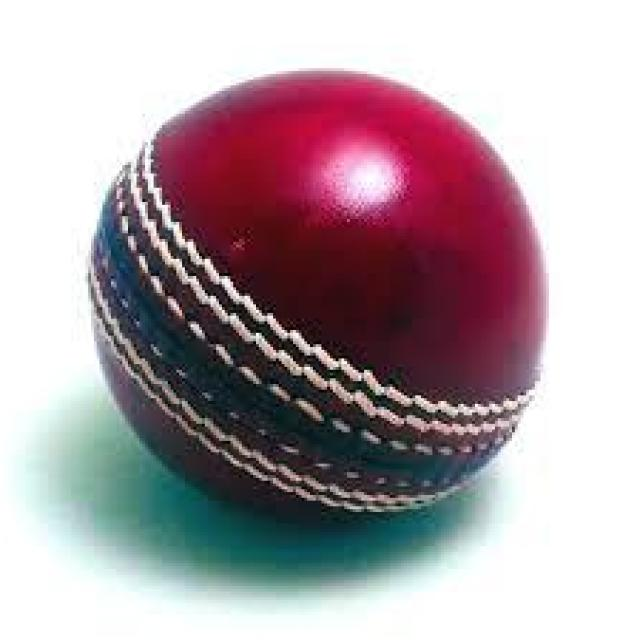ball: (85, 68, 549, 526)
